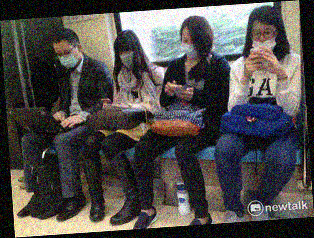mask_weared_incorrect: (251, 25, 277, 52)
with_mask: (53, 47, 82, 68), (180, 33, 199, 60), (118, 47, 137, 68)
